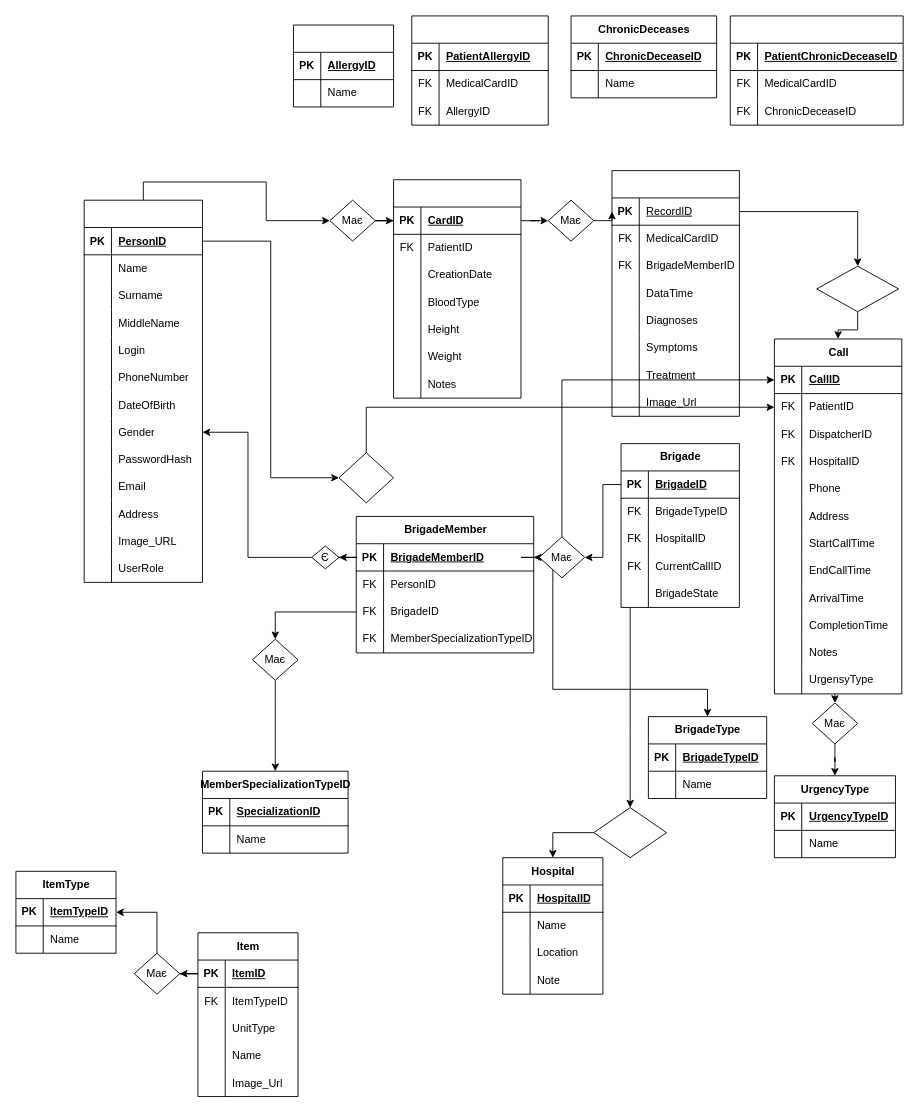
Some shapes in this 919 by 1113 pixel diagram are drawn without their labels. Each missing label, with the box of its shape:
Allergies: (293, 24, 394, 107)
MedicalCard: (393, 179, 521, 398)
MedicalRecord: (611, 170, 739, 416)
PatientAllergies: (411, 15, 548, 125)
PatientChronicDeceases: (729, 15, 903, 125)
People: (83, 199, 202, 582)
Заповняється на основі: (816, 265, 899, 312)
Здійснює: (338, 452, 394, 503)
Перевозить в: (593, 807, 667, 858)
